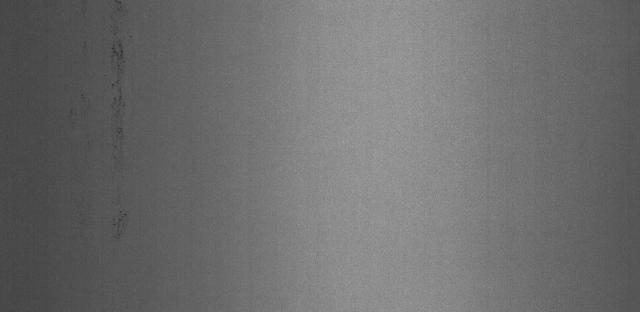inclusion: (102, 0, 145, 250)
